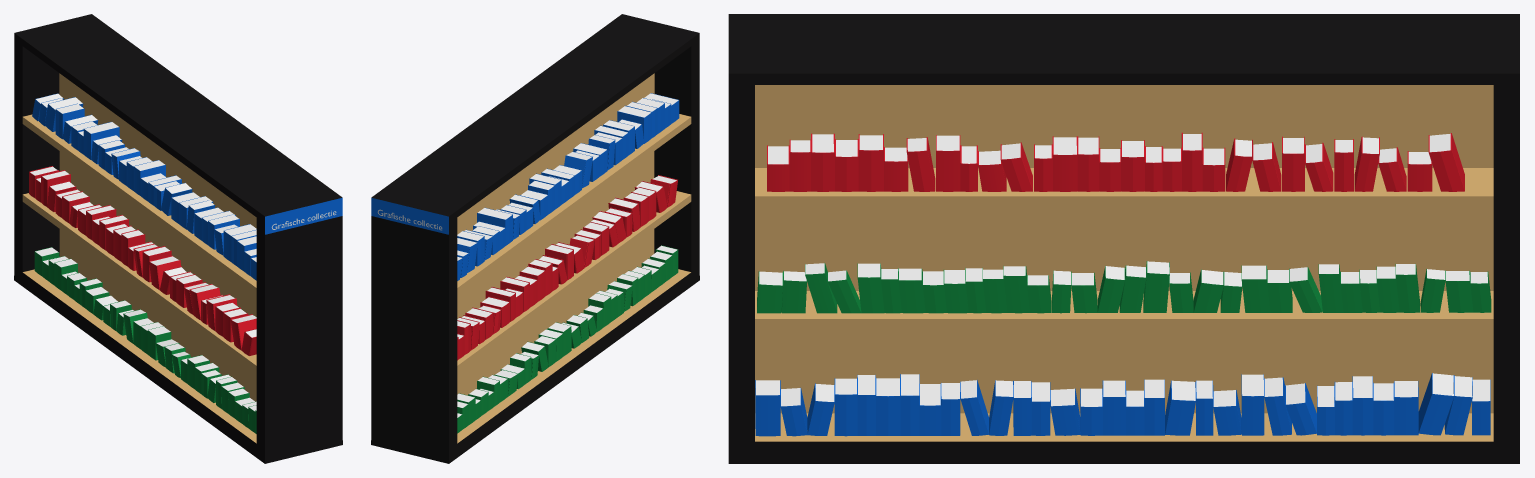
File: bookshelve.glb
3 renders of one model, left to right at view 1: azimuth 30°, elevation 25°; view 2: azimuth 150°, elevation 25°; view 3: azimuth 270°, elevation 25°, orthographic. The views are drawn at different scales.
Parts seen in each view (by area): view 1: Cube, book.137, book.034, book.001; view 2: Cube, book.137, book.034, book.001; view 3: Cube, book.046, book, book.014.
Boxes of the visible parts, box(x1,y1,x2,y2) form: Cube: box(14, 14, 342, 463); book.137: box(32, 93, 256, 280); book.034: box(29, 166, 256, 355); book.001: box(34, 247, 256, 433); Cube: box(371, 14, 699, 463); book.137: box(457, 93, 679, 280); book.034: box(457, 175, 677, 360); book.001: box(457, 245, 678, 433); Cube: box(728, 14, 1519, 463); book.046: box(755, 373, 1490, 436); book: box(767, 132, 1464, 191); book.014: box(757, 261, 1491, 313).
Bounding box in the file's own units: 0.5953 × 1.81 × 3.33.
